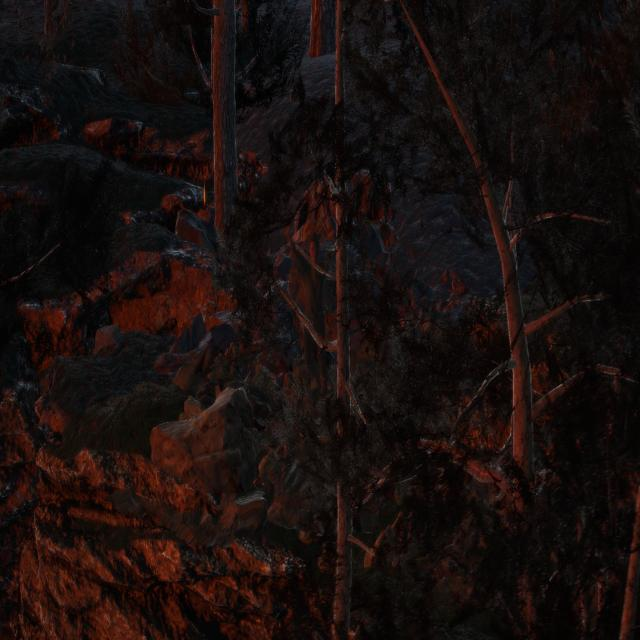Human: (288, 212, 346, 426)
